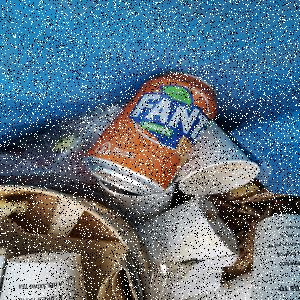Can: (83, 71, 221, 199)
Cup: (131, 194, 247, 264), (247, 207, 300, 300), (179, 143, 267, 199), (1, 251, 90, 300)
